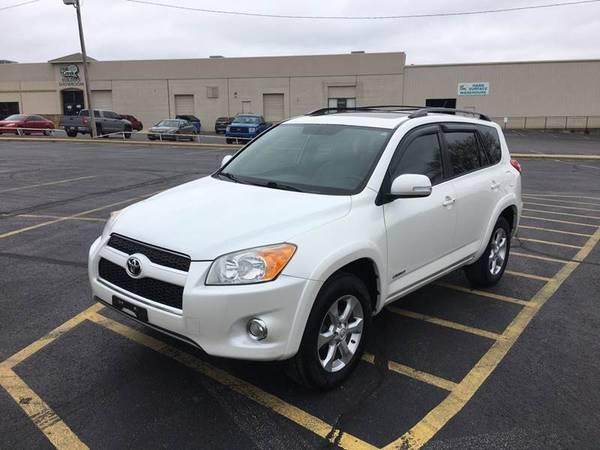Front_Bumper: (86, 240, 325, 359)
Front_Fender: (283, 184, 389, 308)
Front_Left_Door: (383, 179, 454, 298)
Front_Left_Window: (379, 124, 449, 205)
Front_Windshield: (209, 122, 389, 199)
Grille: (95, 232, 193, 310)
Hood: (108, 176, 349, 260)
Rear_Fender: (474, 119, 521, 228)
Rear_Left_Door: (450, 166, 505, 268)
Rear_Left_Window: (442, 125, 492, 177)
Right_Headlight: (203, 242, 294, 286)
Roof: (282, 101, 509, 194)
Wheel: (300, 275, 377, 379), (464, 220, 509, 285)
